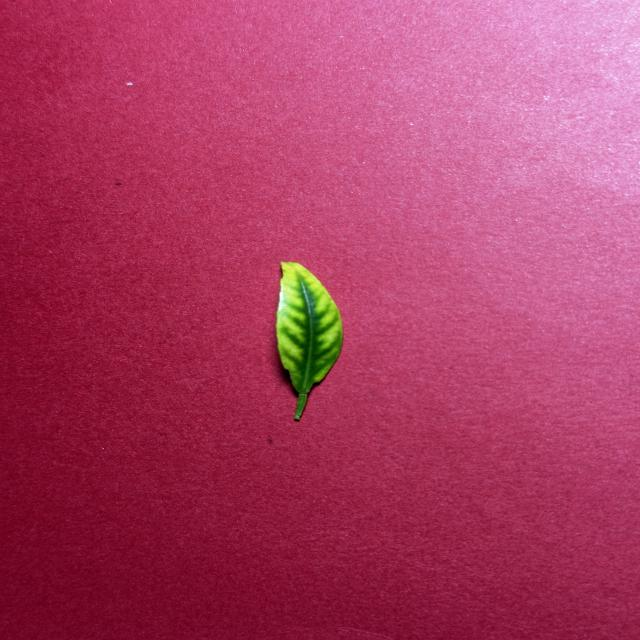greening: (276, 262, 343, 420)
